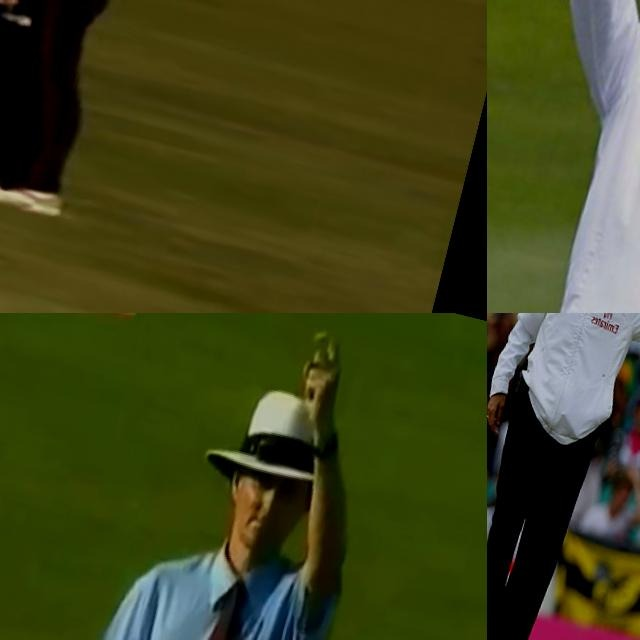No_Action: (0, 0, 215, 250)
No_Ball: (487, 313, 640, 640)
Out: (44, 313, 409, 640)
Six: (487, 0, 640, 313)
